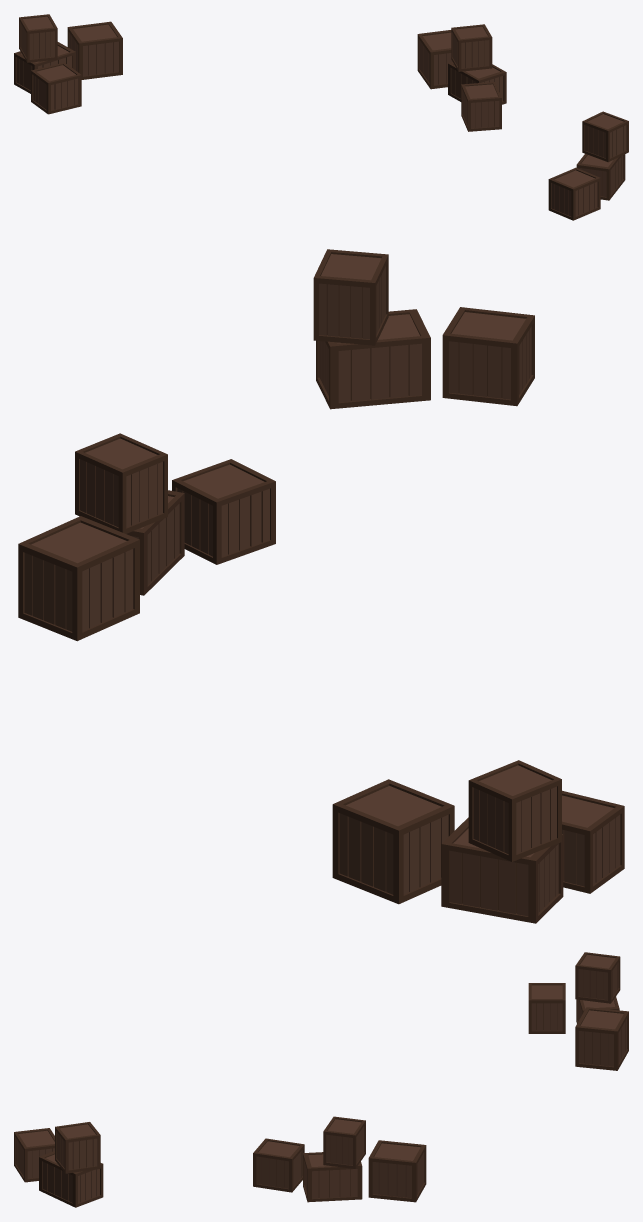
Rendered from boxes.glb.
The picture shows the model from 3 angles, top to bottom: view 1: azimuth 30°, elevation 25°; view 2: azimuth 150°, elevation 25°; view 3: azimuth 270°, elevation 25°; orthographic projection. The views are drawn at different scales.
Visible parts, largest first — view 1: box.005, box.009, box.004, box.010, box.007, box.001, box, box.003, box.008, box.006, box.002; view 2: box, box.005, box.008, box.002, box.007, box.009, box.003, box.001, box.010, box.004, box.006; view 3: box, box.005, box.007, box.006, box.008, box.003, box.010, box.001, box.004, box.009, box.002.
Boxes of the visible parts, x1,y1,x2,y2 form: box.005: (67,21,122,79); box.009: (548,167,600,220); box.004: (31,62,81,114); box.010: (582,111,628,162); box.007: (461,82,501,131); box.001: (451,24,492,71); box: (417,30,452,89); box.003: (19,14,57,62); box.008: (576,153,625,200); box.006: (448,62,506,104); box.002: (14,42,75,93); box: (18,516,139,641); box.005: (332,779,454,904); box.008: (316,309,430,409); box.002: (441,817,563,923); box.007: (172,459,275,564); box.009: (442,307,534,406); box.003: (468,760,561,861); box.001: (75,433,167,533); box.010: (313,249,388,345); box.004: (562,790,624,893); box.006: (126,490,184,595); box: (368,1140,426,1202); box.005: (575,1007,628,1070); box.007: (253,1138,304,1192); box.006: (303,1152,362,1202); box.008: (39,1151,103,1207); box.003: (575,952,620,1003); box.010: (55,1122,100,1173); box.001: (323,1116,365,1168); box.004: (528,983,565,1033); box.009: (14,1128,54,1182); box.002: (576,997,619,1023).
Size of the model in its own units: 8.07 by 1.32 by 10.97.
